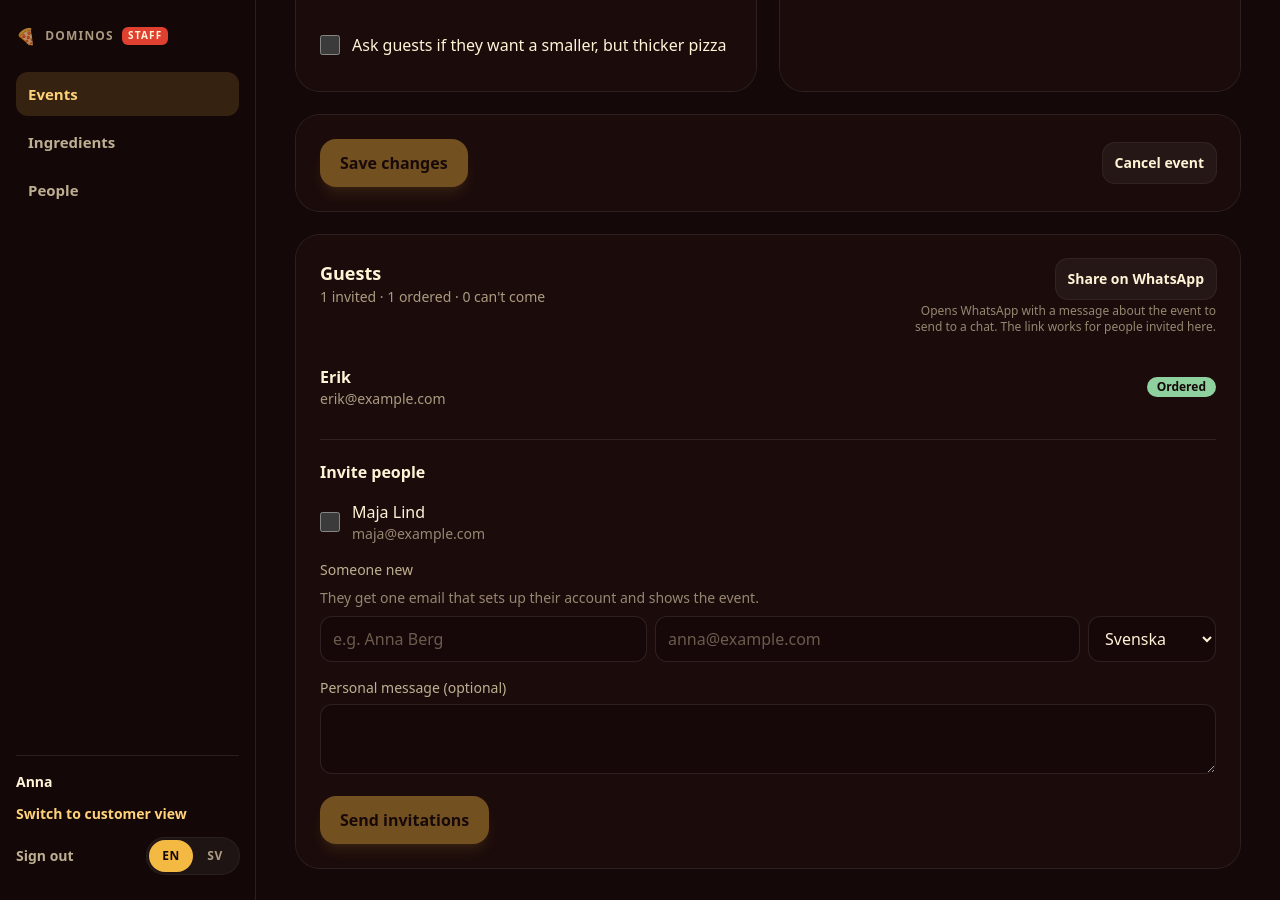
Test: inviting guests to an event (staff) › lists the guests and invites people with an account and someone new
(page scrolled)
expect the text "1 invited · 1 ordered · 0 can't come" is shown: met, box [320,287,545,307]
expect the text "Ordered" is shown: met, box [1147,377,1216,397]
Click the checkbox labelled "Maja Lind maja@example.com": [330, 522] box [320,512,340,532]
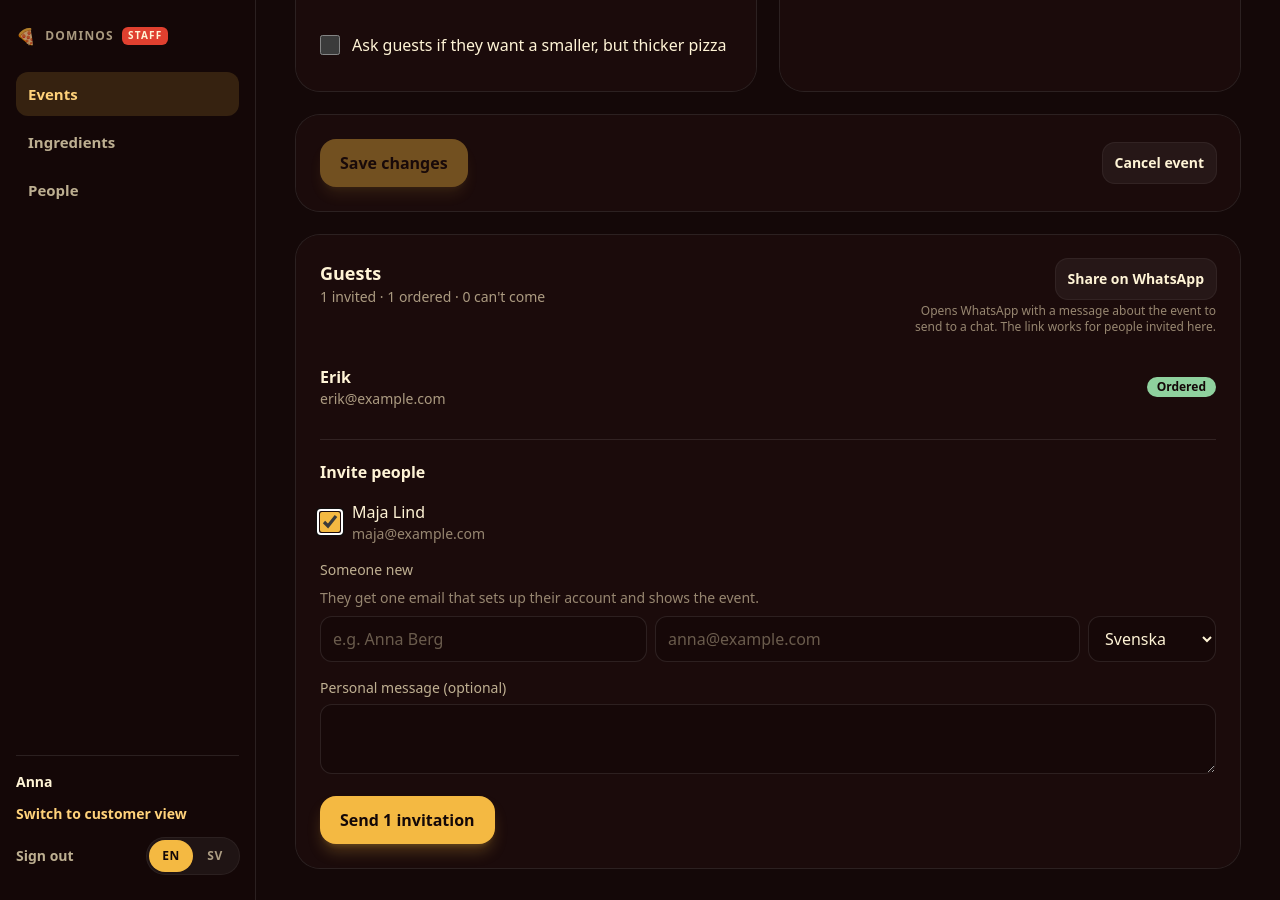
In the field named "Name": [484, 639] box [320,616,647,662], type "Sven"
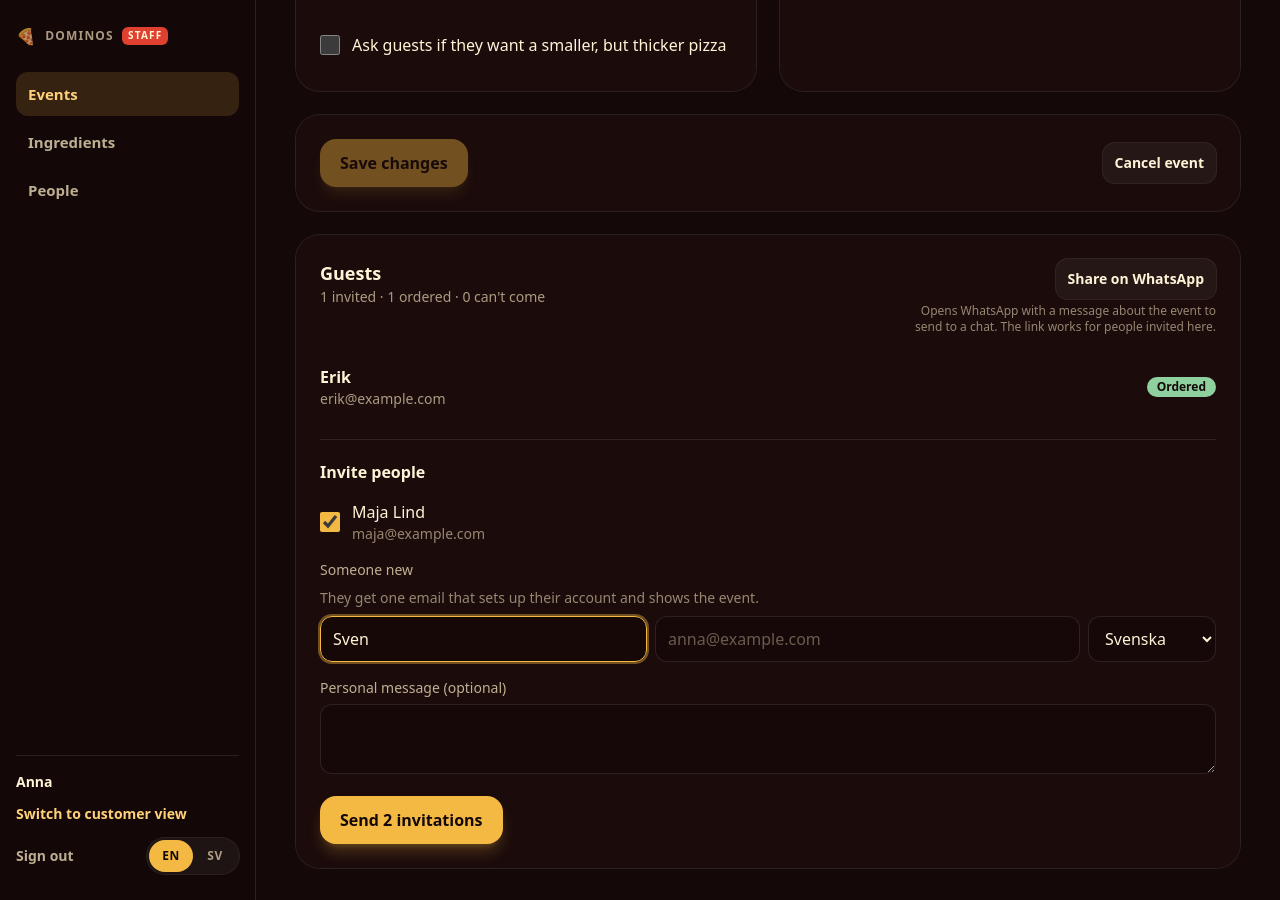
In the field named "Email": [868, 639] box [655,616,1080,662], type "sven@example.com"
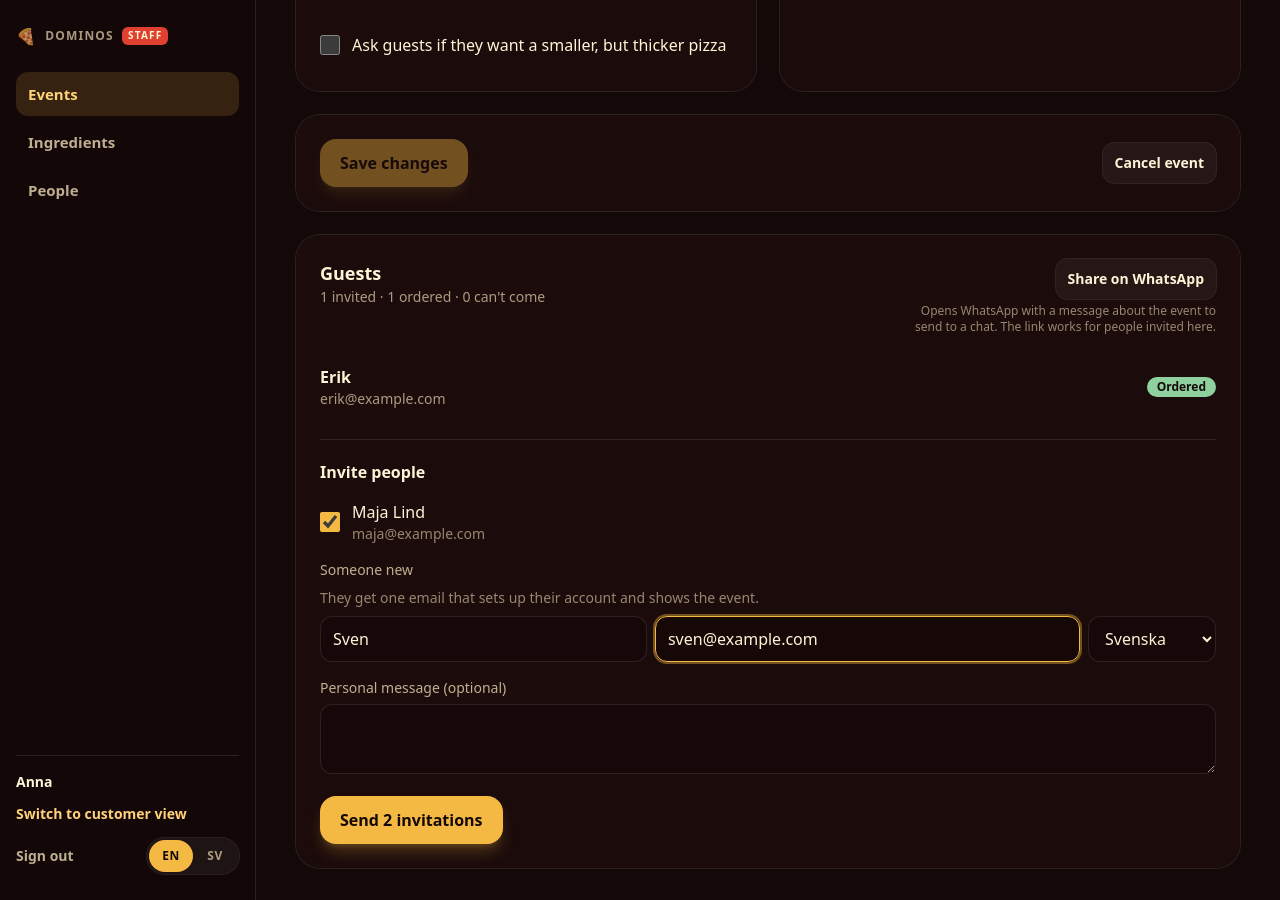
Click the button "Send 2 invitations": [411, 820] box [320,796,503,844]
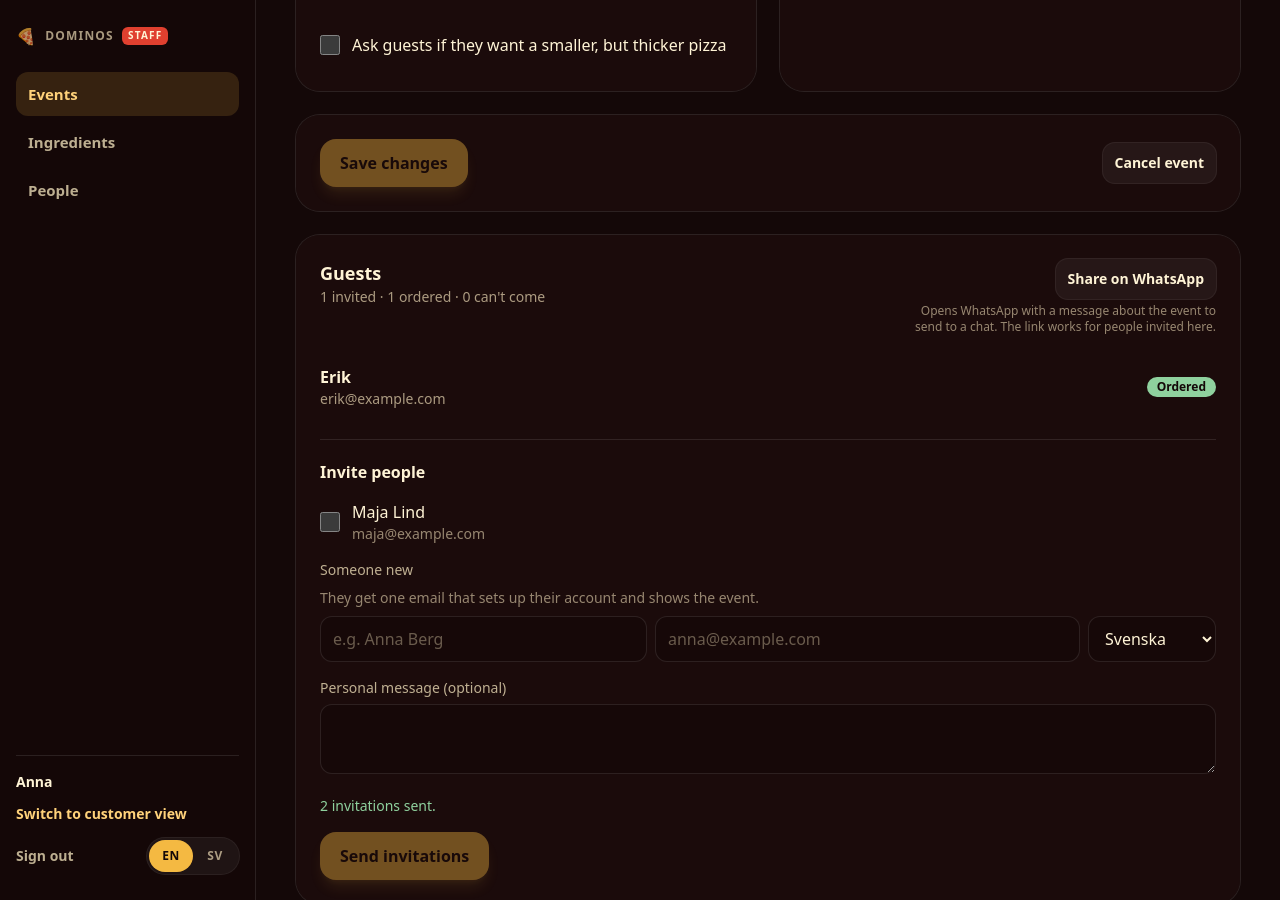
expect the message reads "2 invitations sent.": met, box [320,796,436,815]
